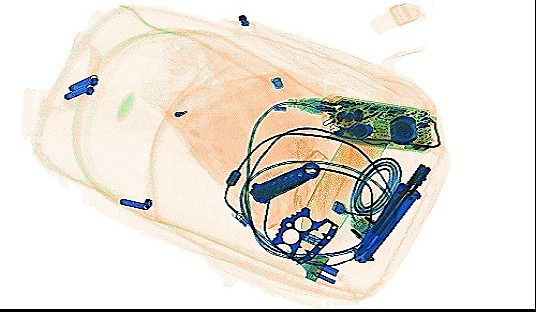knife: (350, 181, 421, 263), (368, 158, 431, 238), (248, 158, 321, 203)
pressure: (297, 128, 390, 248)
